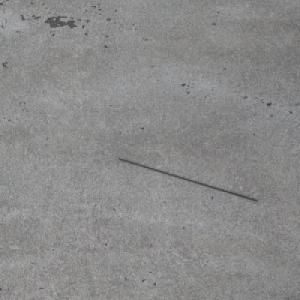LuggagePart: (116, 157, 258, 202)
